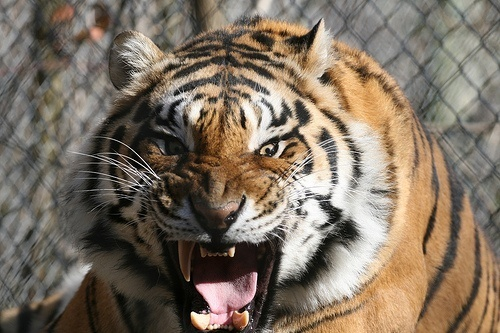tigre: (46, 14, 498, 333)
